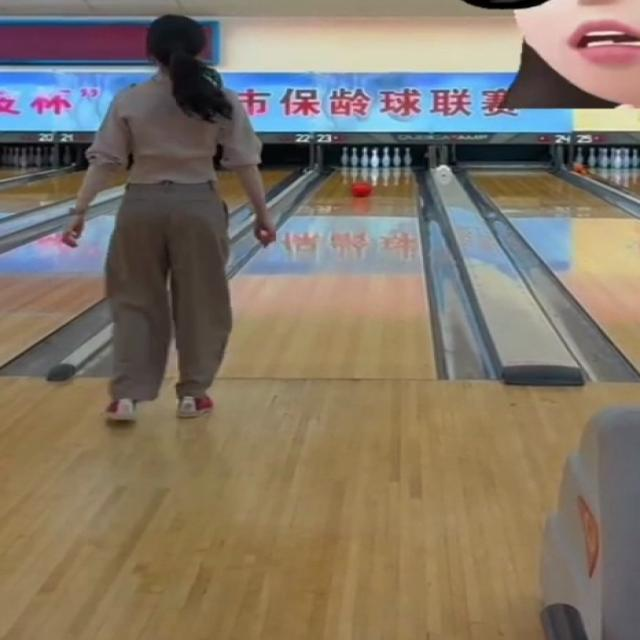alley: (222, 168, 434, 378)
balls: (352, 184, 371, 197)
bottle: (339, 147, 411, 171)
